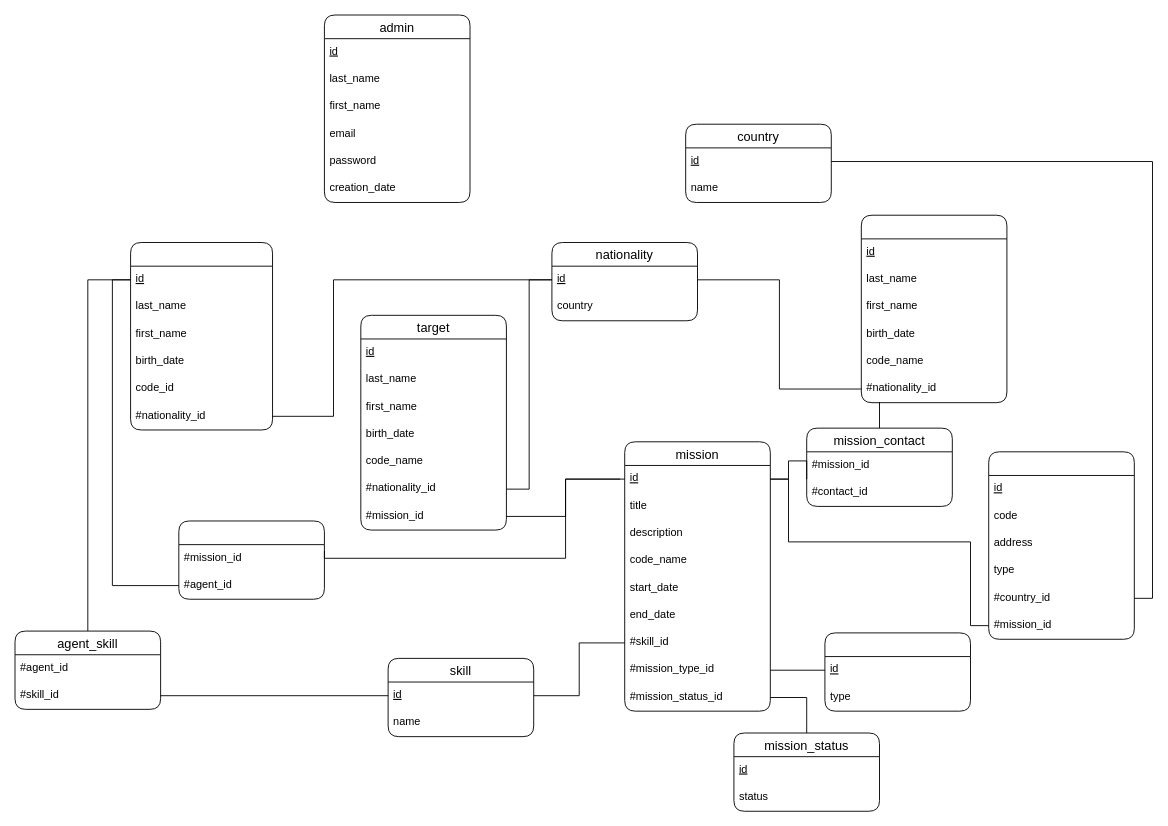
The diagram is 1168 pixels wide and 826 high, and some of its shapes have lost their labels. Here are the shapes that lost their labels. From the top down, the box of each, then its label:
(860, 214, 1007, 403): contact
(130, 242, 273, 430): agent
(178, 520, 324, 599): mission_agent
(988, 451, 1134, 639): hideout
(824, 632, 971, 711): mission_type
